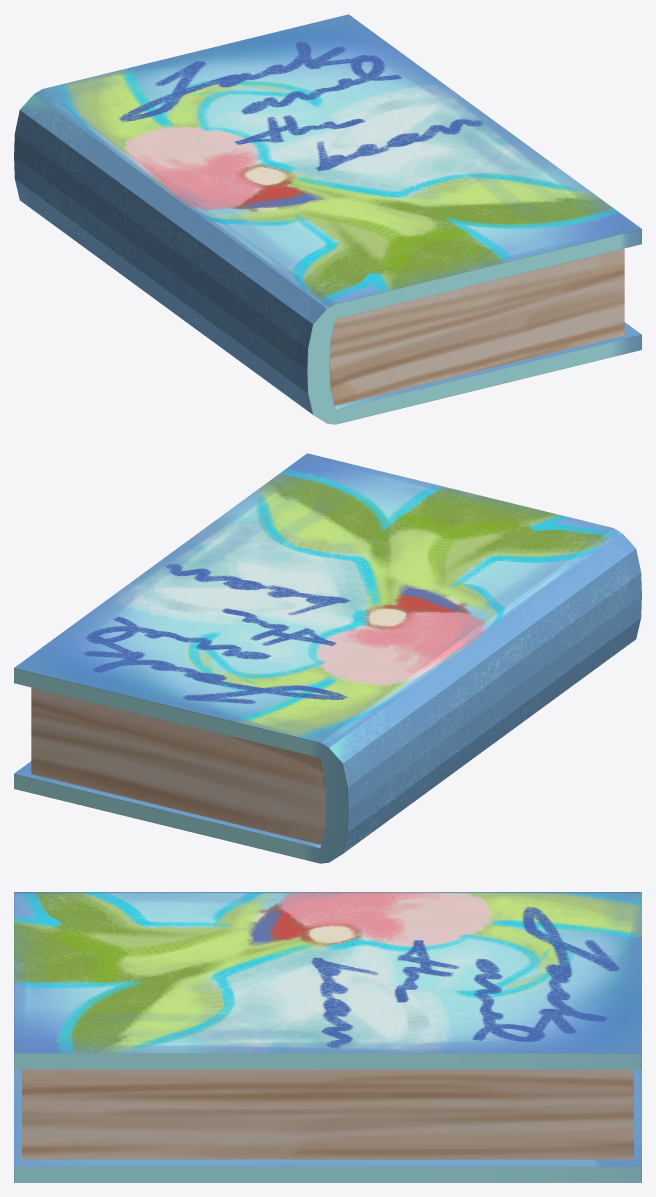
The model's file is Beanstalk_StoryBook.fbx.
3 views of the same model, one above another, from view 1: azimuth 30°, elevation 25°; view 2: azimuth 150°, elevation 25°; view 3: azimuth 270°, elevation 25° (orthographic). The views are drawn at different scales.
Visible parts, largest first — view 1: Beanstalk_StoryBook; view 2: Beanstalk_StoryBook; view 3: Beanstalk_StoryBook.
Boxes of the visible parts, x1,y1,x2,y2 form: Beanstalk_StoryBook: (14,14,641,424); Beanstalk_StoryBook: (14,453,641,863); Beanstalk_StoryBook: (14,892,641,1182).
Size of the model in its own units: 32.19 by 11.11 by 48.85.
1 material, 1 textured.
